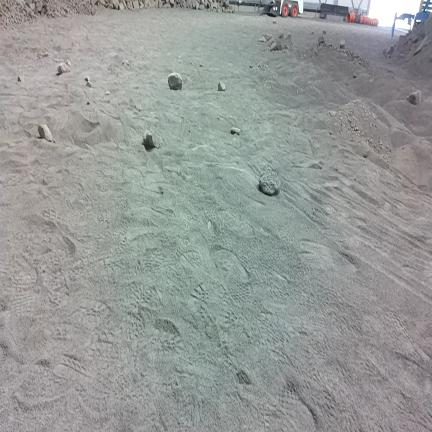Rock: (260, 168, 280, 195), (143, 131, 161, 149), (414, 35, 429, 55), (38, 125, 52, 141), (169, 73, 182, 89), (407, 91, 421, 104), (58, 63, 70, 74), (35, 1, 43, 13), (385, 46, 394, 56), (270, 41, 278, 51), (38, 51, 48, 59), (231, 127, 240, 135), (266, 39, 274, 48), (132, 0, 139, 9), (218, 82, 225, 91), (318, 36, 324, 46), (363, 150, 370, 158), (119, 2, 126, 10), (113, 0, 119, 9), (126, 1, 132, 10), (198, 4, 206, 10), (223, 0, 229, 8), (340, 40, 345, 49), (194, 1, 199, 10), (286, 33, 291, 42), (122, 60, 129, 66), (277, 33, 284, 39), (413, 37, 419, 44), (259, 36, 266, 42), (99, 0, 106, 6), (158, 0, 163, 8), (192, 0, 197, 8), (187, 0, 192, 8), (144, 0, 149, 8), (218, 3, 222, 12), (282, 43, 288, 49), (164, 3, 171, 8), (66, 59, 71, 66), (139, 1, 143, 9), (105, 90, 110, 96), (87, 81, 92, 87), (398, 53, 404, 58), (278, 43, 282, 50), (383, 48, 386, 55), (85, 76, 89, 81), (327, 44, 332, 48), (18, 76, 22, 81), (311, 31, 314, 35), (323, 30, 326, 34), (273, 20, 276, 23), (354, 74, 356, 78), (200, 63, 202, 67), (430, 57, 431, 62)
